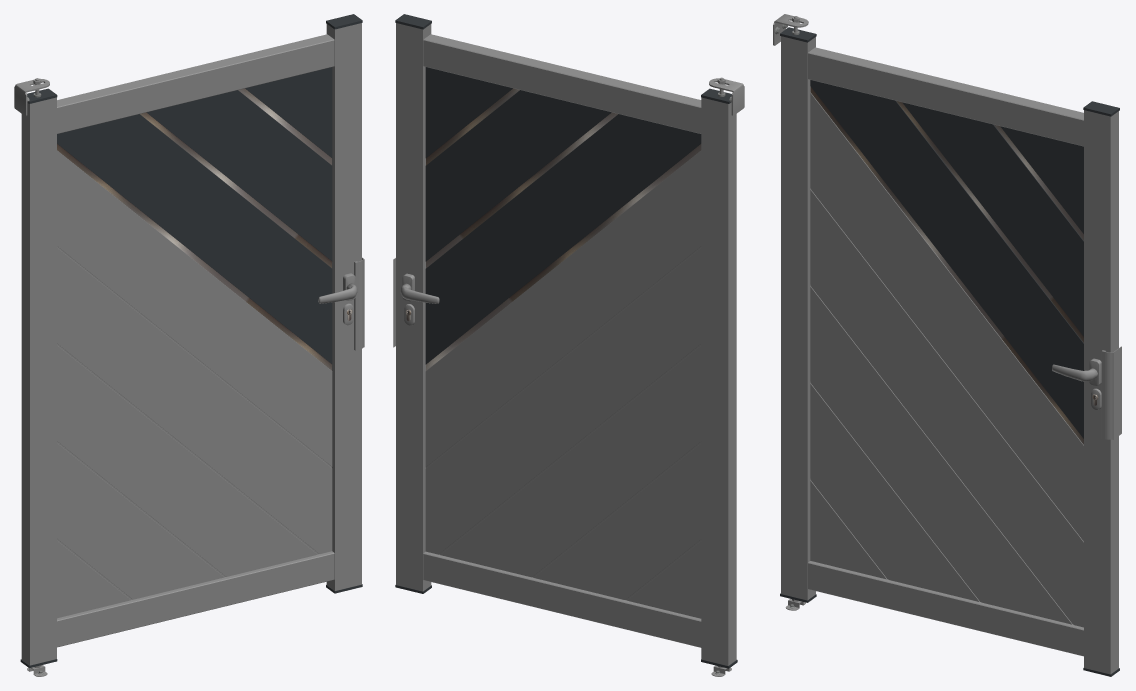
3 views of the same model, side by side, from view 1: azimuth 30°, elevation 25°; view 2: azimuth 150°, elevation 25°; view 3: azimuth 330°, elevation 25° (orthographic).
Visible parts, largest first — view 1: Shape107412675, Shape107412667, Shape107412643, Shape107412638, Rectangle095, Rectangle096, Shape107412637, Rectangle057; view 2: Shape107412675, Shape107412667, Shape107412643, Shape107412638, Rectangle095, Rectangle096, Rectangle057; view 3: Shape107412675, Shape107412667, Shape107412638, Shape107412643, Rectangle095, Rectangle096, Shape107412637.
Part boxes in pixels (x1,y1,x2,y2): Shape107412675: (57, 150, 332, 618); Shape107412667: (57, 67, 332, 370); Shape107412643: (21, 97, 56, 665); Shape107412638: (326, 23, 361, 590); Rectangle095: (57, 34, 334, 133); Rectangle096: (57, 551, 334, 647); Shape107412637: (354, 257, 364, 350); Rectangle057: (14, 78, 49, 116); Shape107412675: (425, 150, 701, 618); Shape107412667: (425, 67, 701, 370); Shape107412643: (701, 97, 736, 665); Shape107412638: (396, 23, 431, 591); Rectangle095: (423, 34, 701, 133); Rectangle096: (423, 551, 701, 647); Rectangle057: (709, 78, 744, 115); Shape107412675: (810, 92, 1083, 627); Shape107412667: (810, 80, 1083, 444); Shape107412638: (1084, 110, 1118, 674); Shape107412643: (781, 36, 815, 600); Rectangle095: (808, 47, 1083, 146); Rectangle096: (808, 561, 1083, 656); Shape107412637: (1101, 346, 1121, 439).
Bounding box in the file's own units: 1015 × 1688 × 152.
7 materials, 4 textured.
